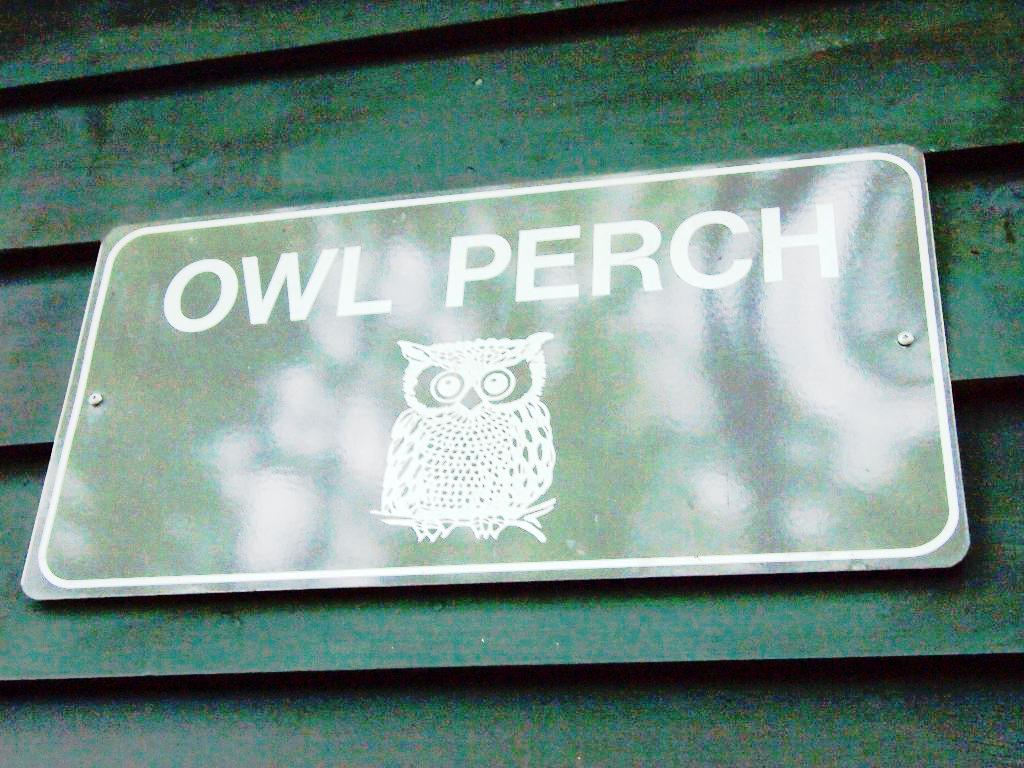Owl: (359, 333, 587, 563)
